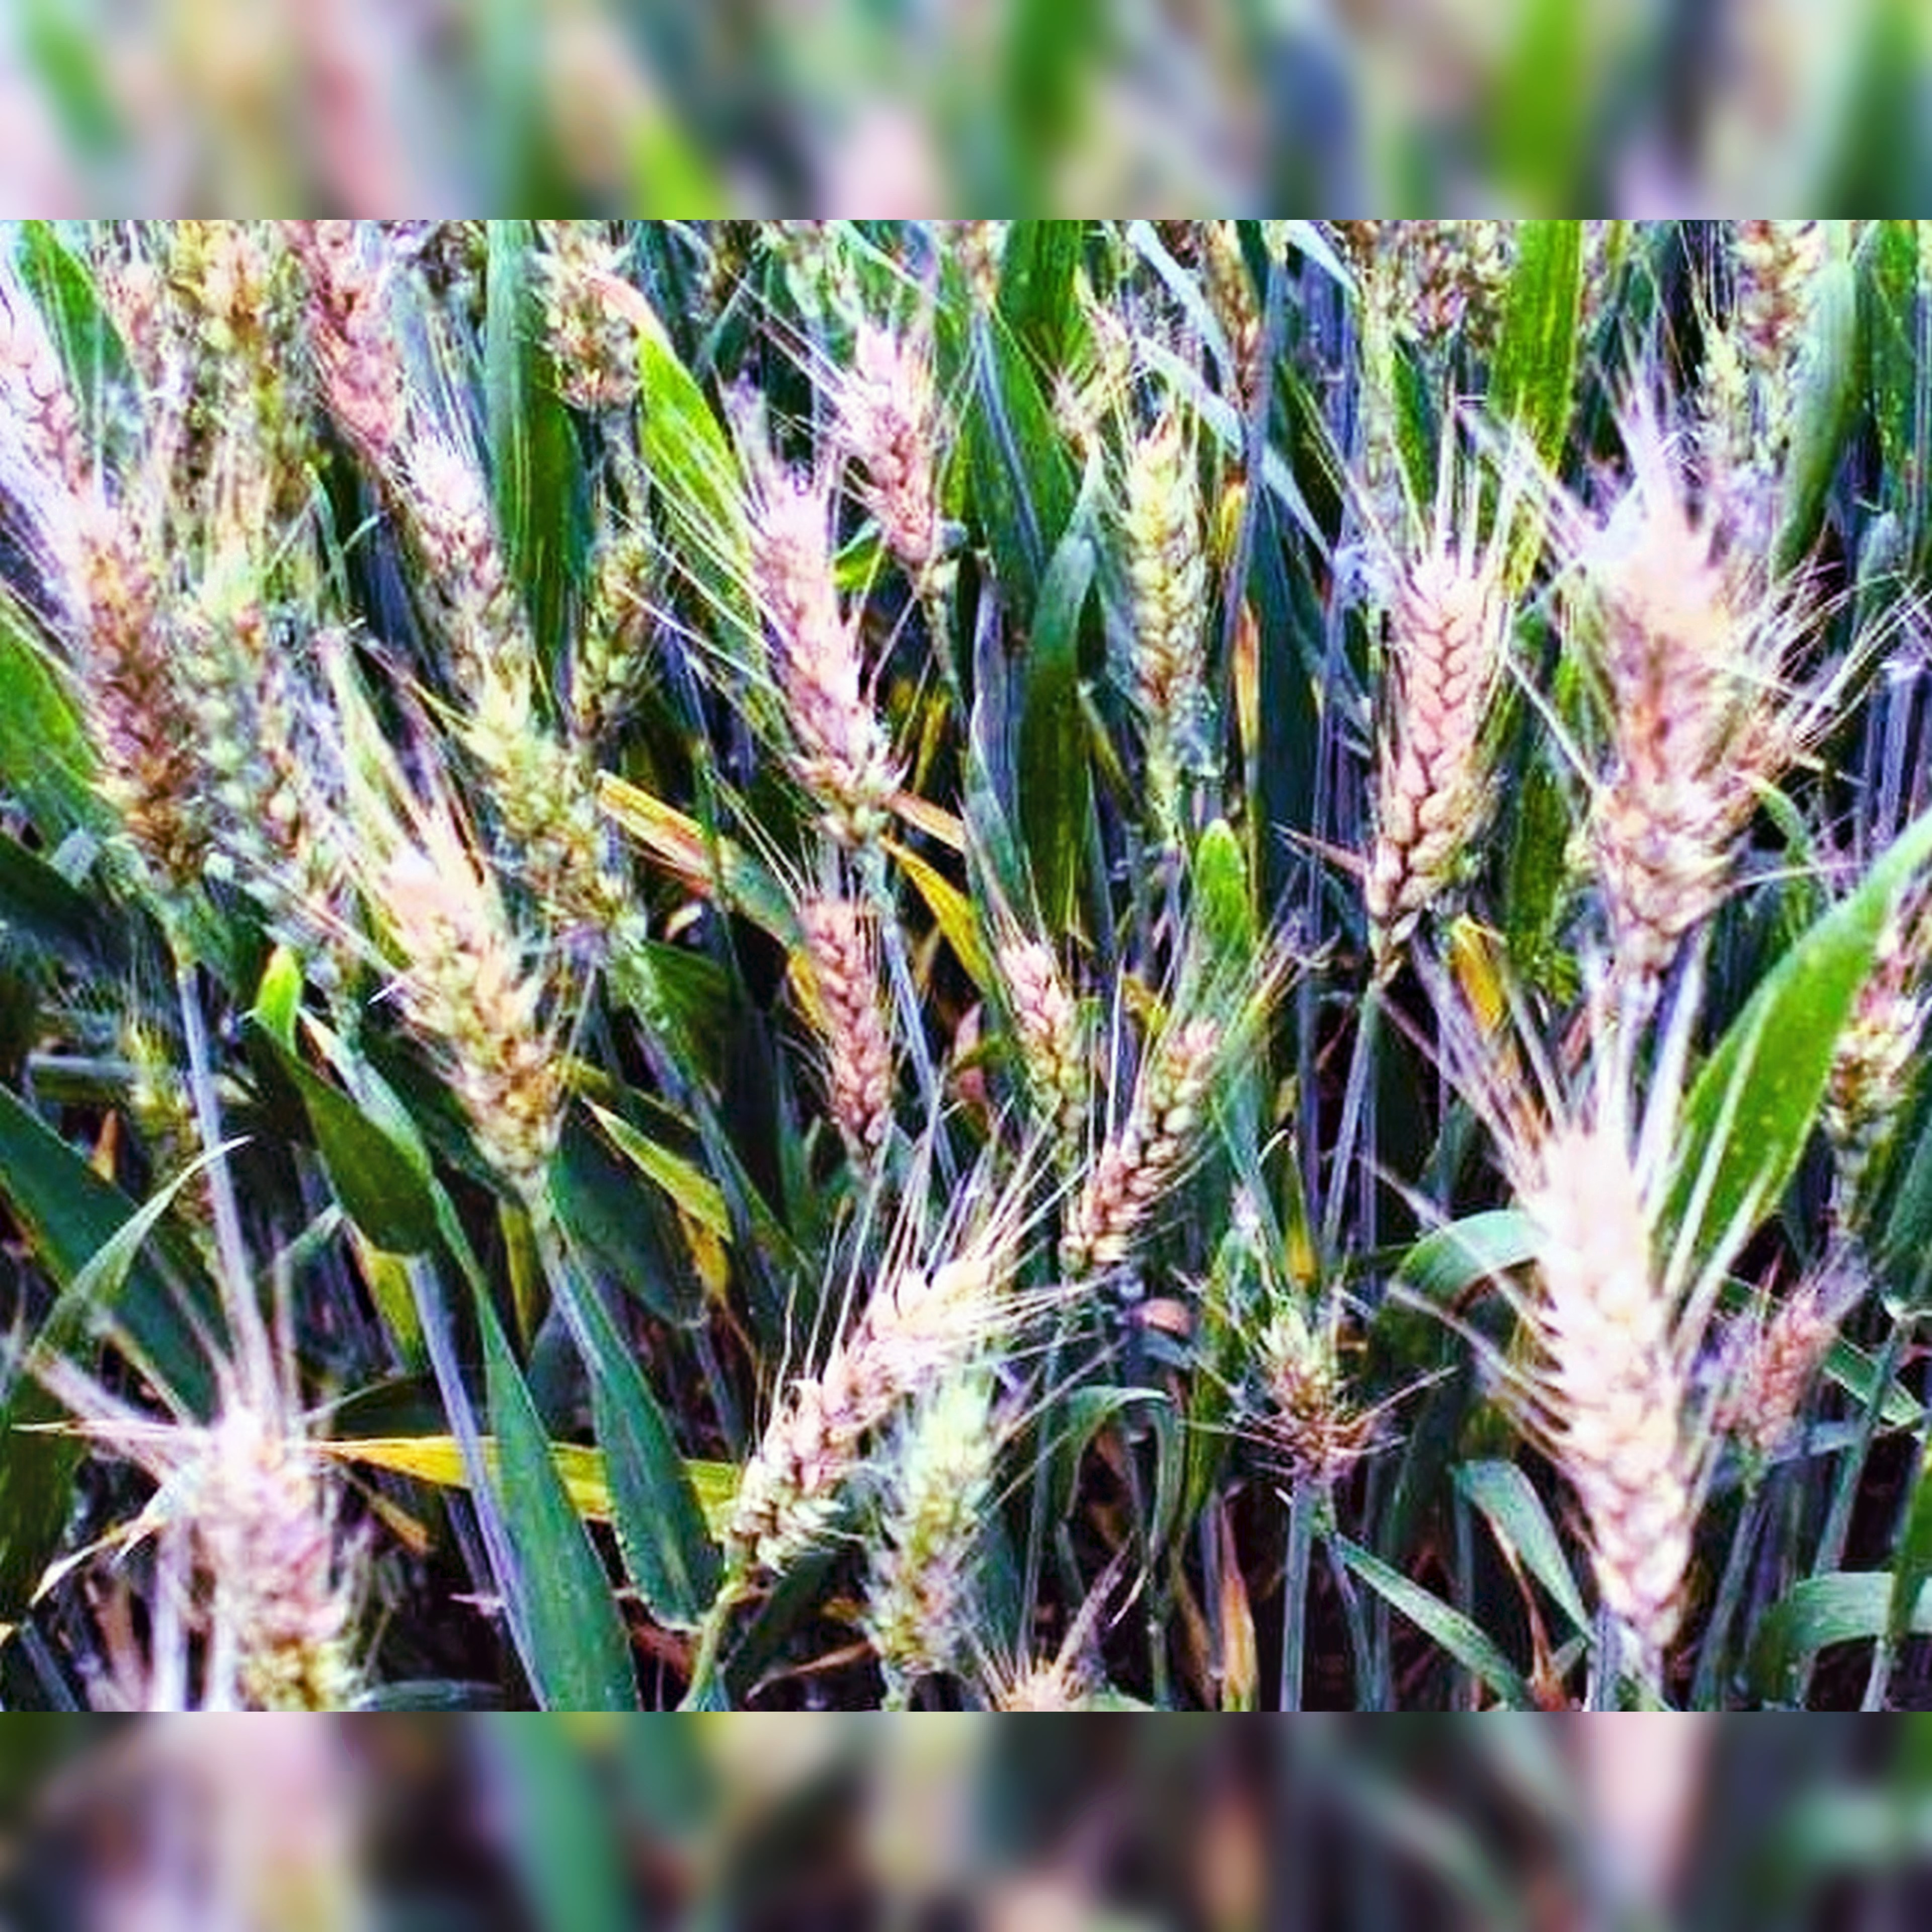Wheat scab: (625, 297, 1265, 1261), (1341, 322, 1932, 1028), (32, 288, 598, 980)
